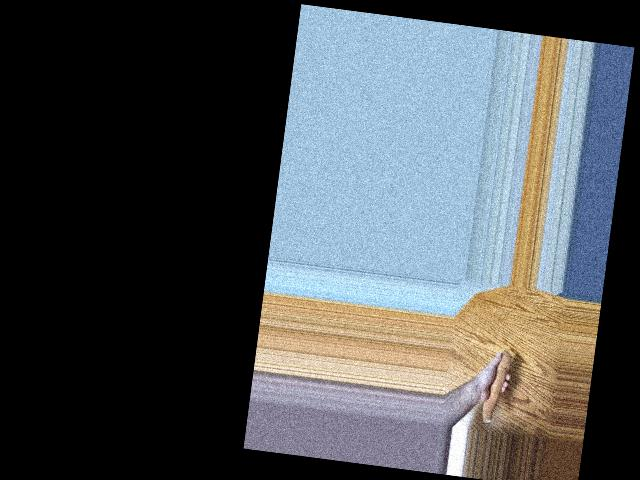sweet_potato: (477, 348, 513, 428)
